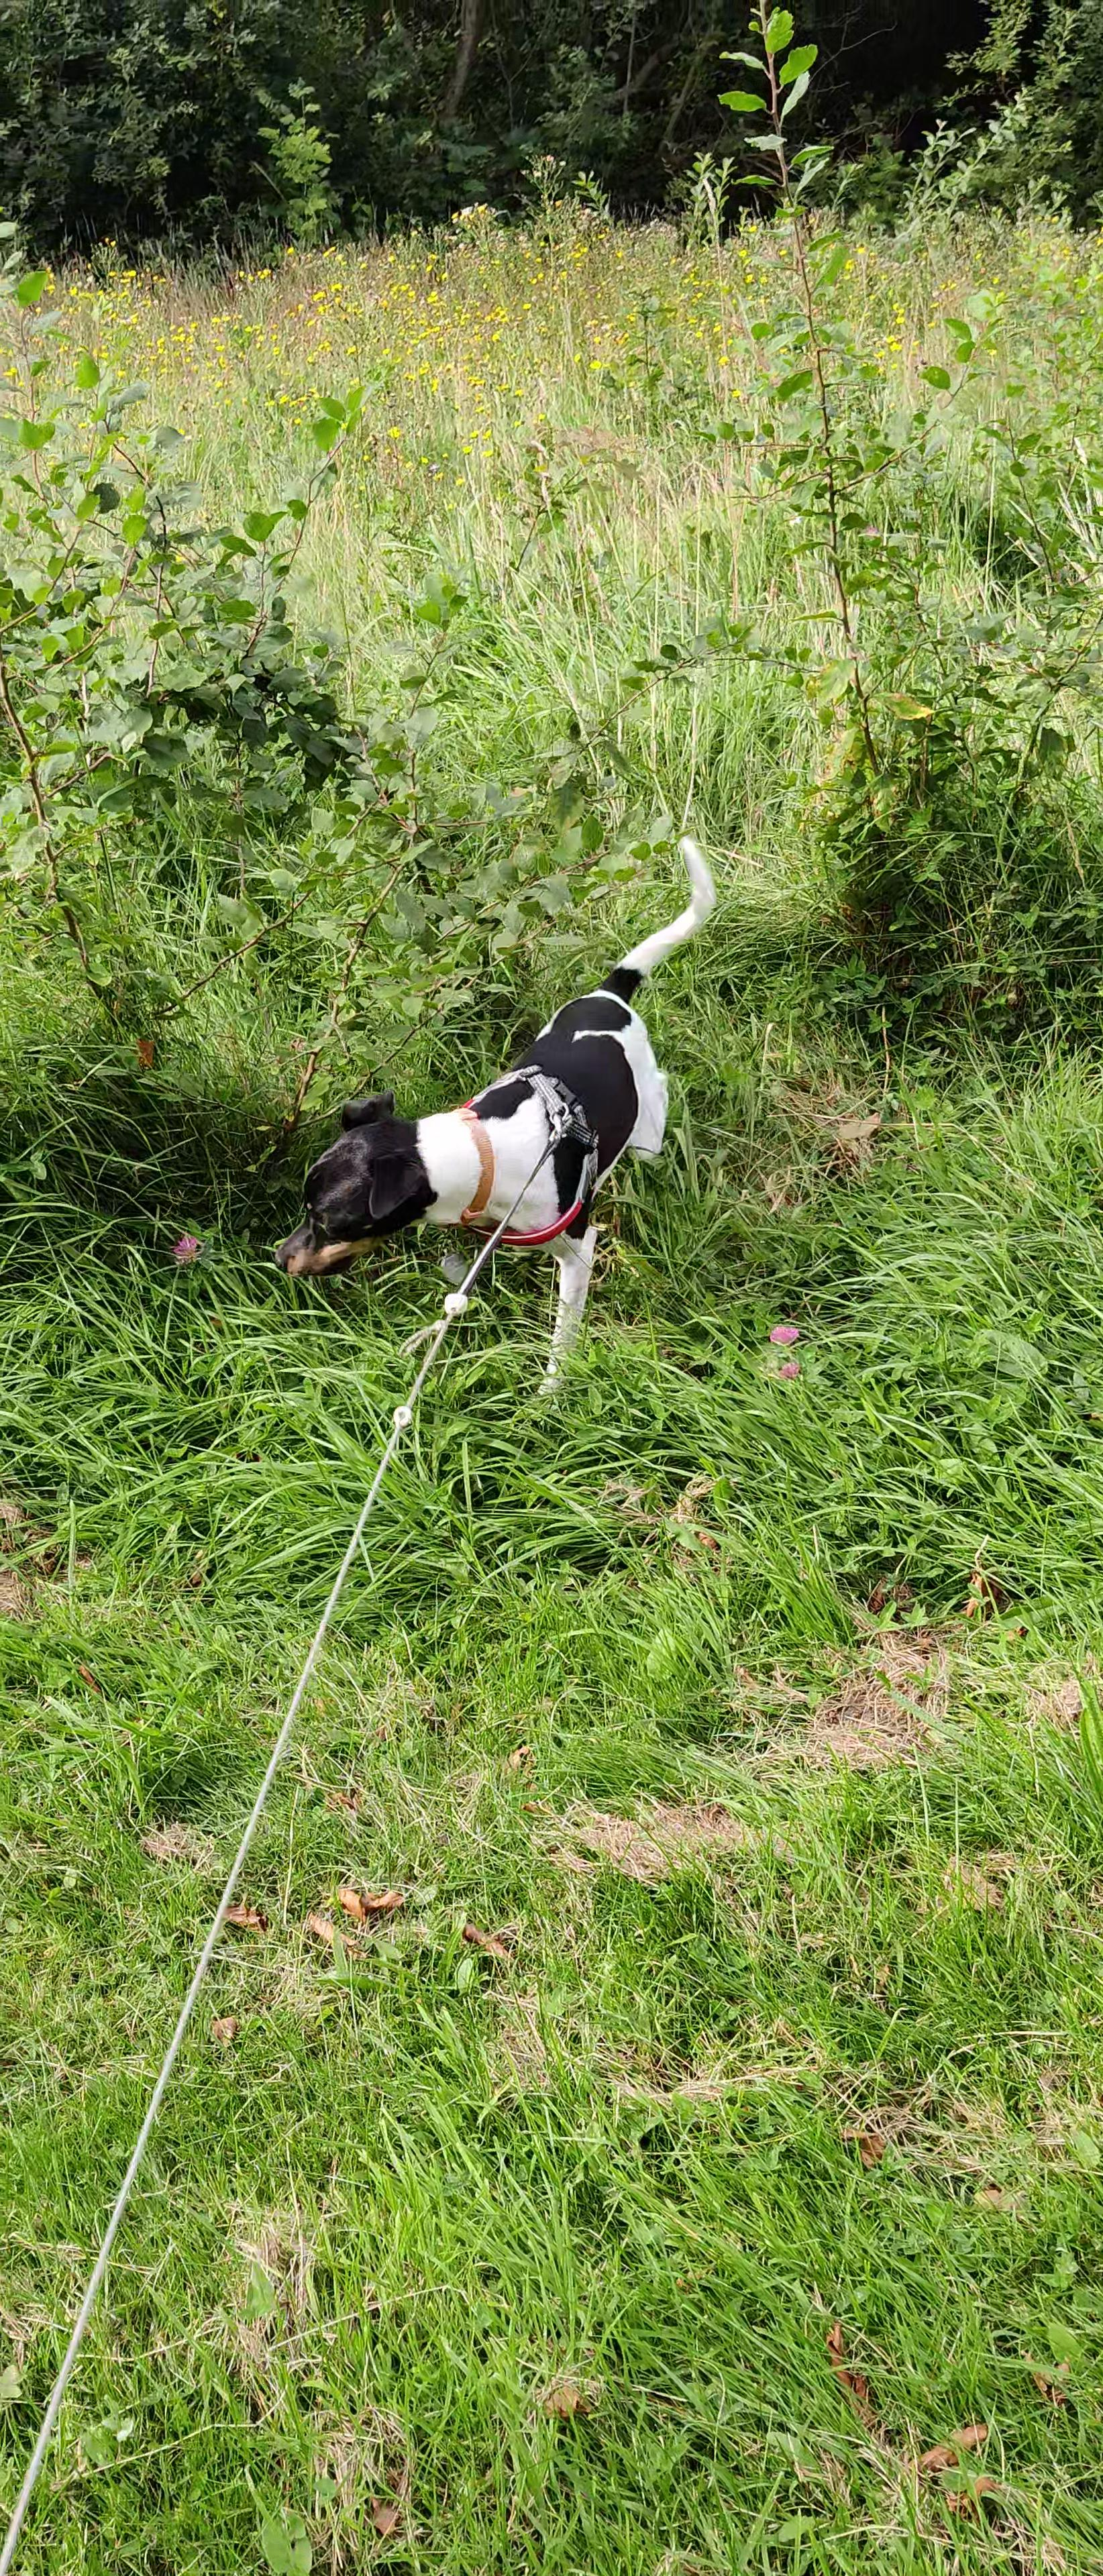Dog: (265, 831, 717, 1395)
